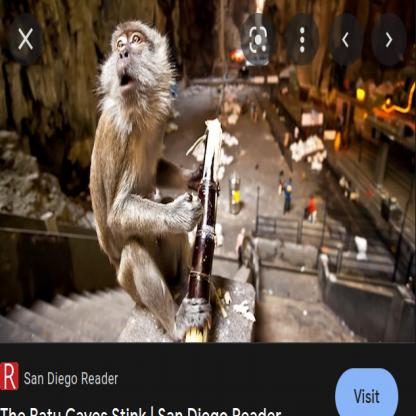monkey: (88, 18, 212, 343)
